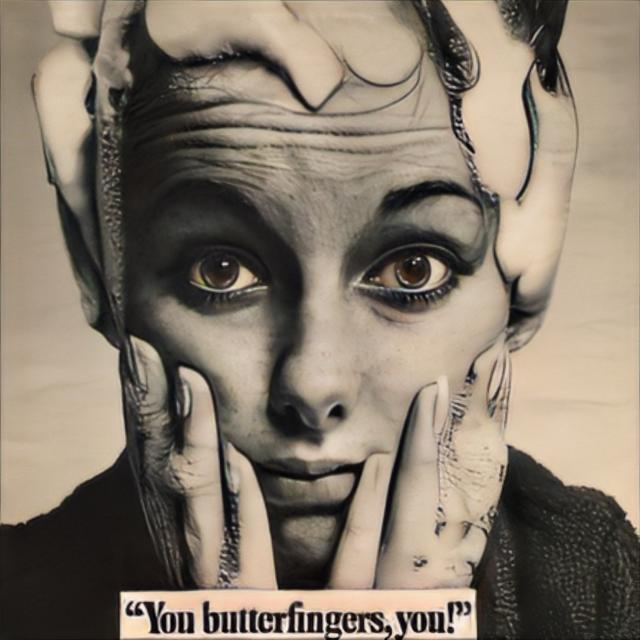surprise: (117, 50, 511, 572)
